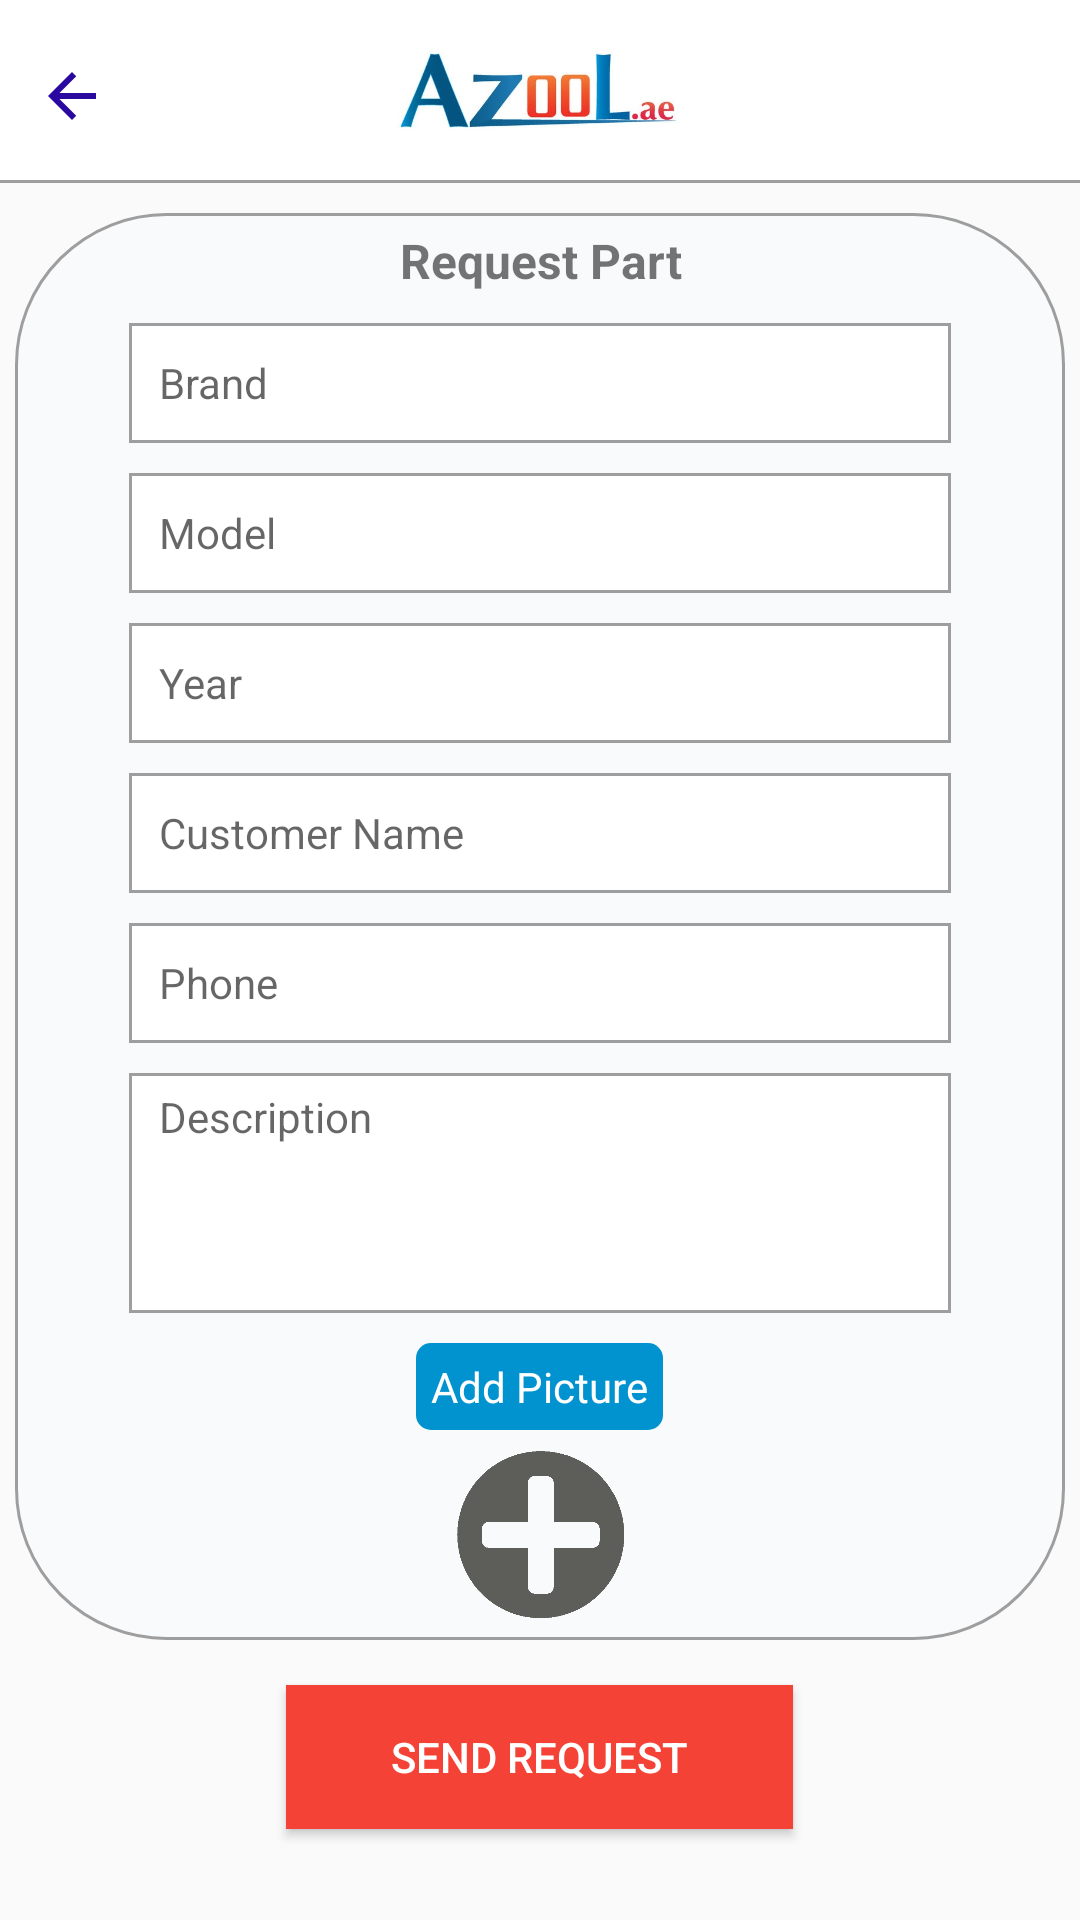

Where icons sit on this 1080*1920 app screen, as (x1, y1, x2, y2):
arrow back: (48, 72, 96, 120)
